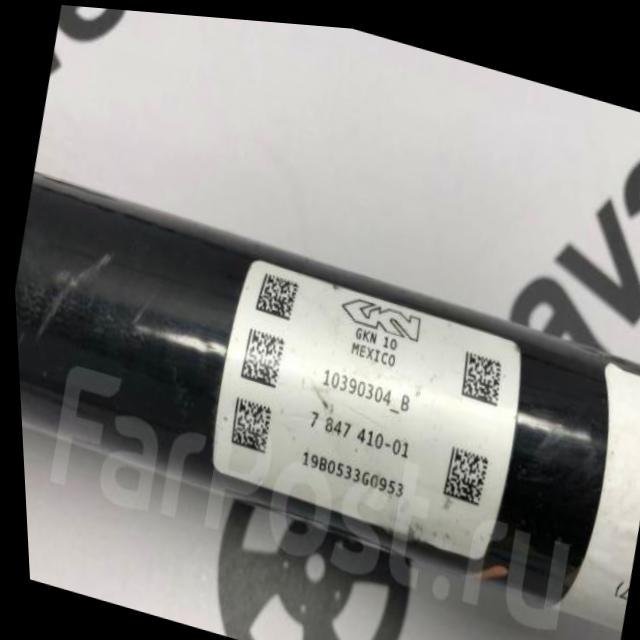datamatrix: (437, 437, 487, 499), (222, 392, 272, 452), (236, 323, 284, 384), (453, 343, 503, 399), (251, 267, 298, 317)
